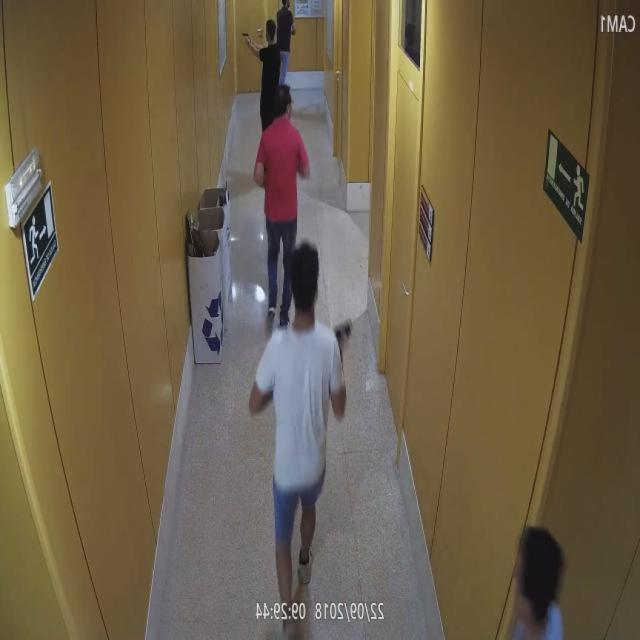pistol: (242, 28, 252, 48)
